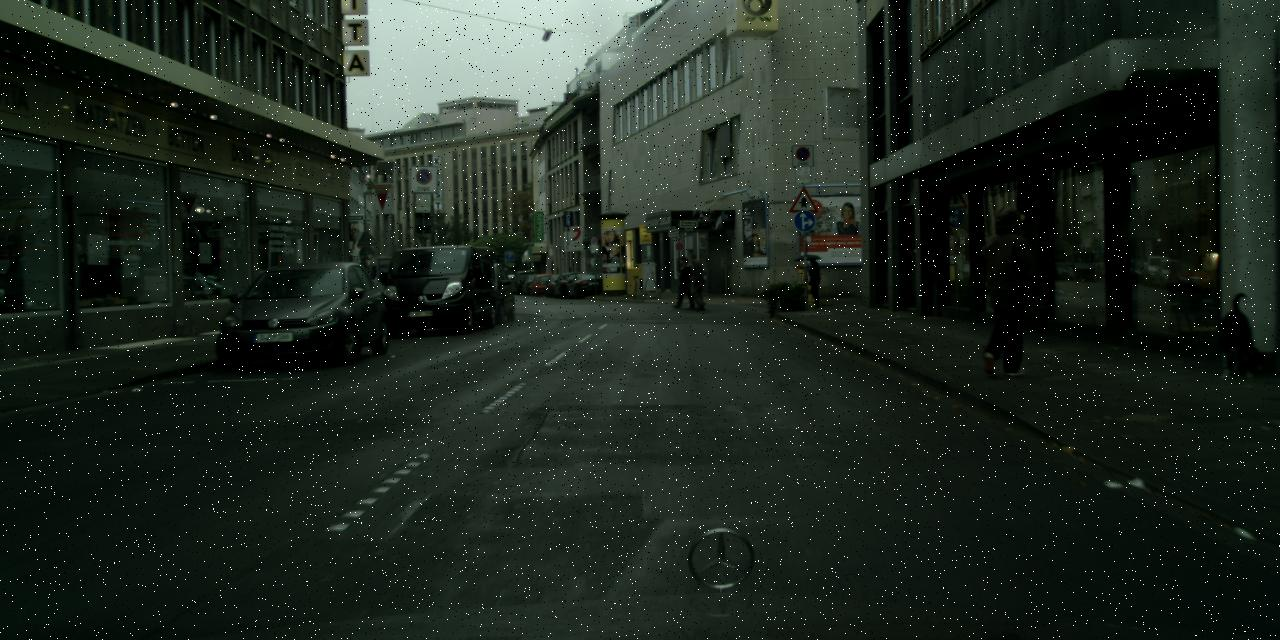ped: (968, 205, 1038, 375), (802, 252, 824, 308), (686, 253, 708, 309), (673, 256, 693, 308)
